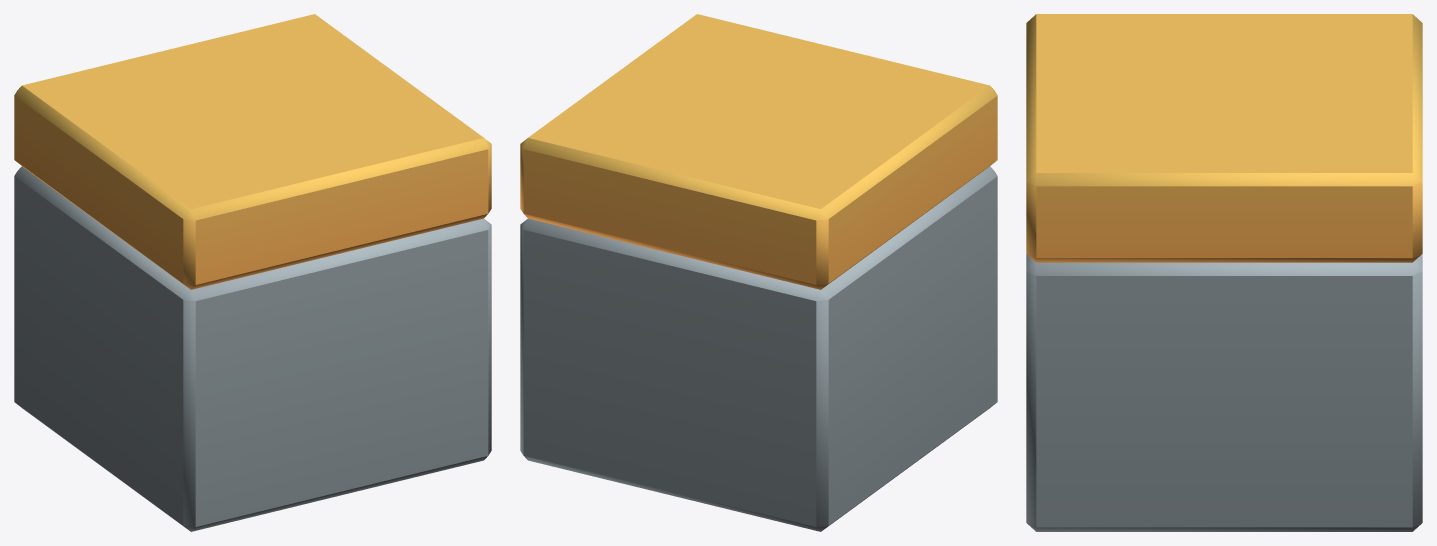
Rendered from platform_2x2x2_yellow.glb.
3 renders of one model, left to right at view 1: azimuth 30°, elevation 25°; view 2: azimuth 150°, elevation 25°; view 3: azimuth 270°, elevation 25°, orthographic. The views are drawn at different scales.
Parts seen in each view (by area): view 1: platform_2x2x2_yellow; view 2: platform_2x2x2_yellow; view 3: platform_2x2x2_yellow.
Boxes of the visible parts, bbox=[...] form: platform_2x2x2_yellow: bbox=[14, 14, 491, 531]; platform_2x2x2_yellow: bbox=[520, 14, 997, 531]; platform_2x2x2_yellow: bbox=[1026, 14, 1422, 531].
Size of the model in its own units: 2 by 2 by 2.
1 material, 1 textured.
